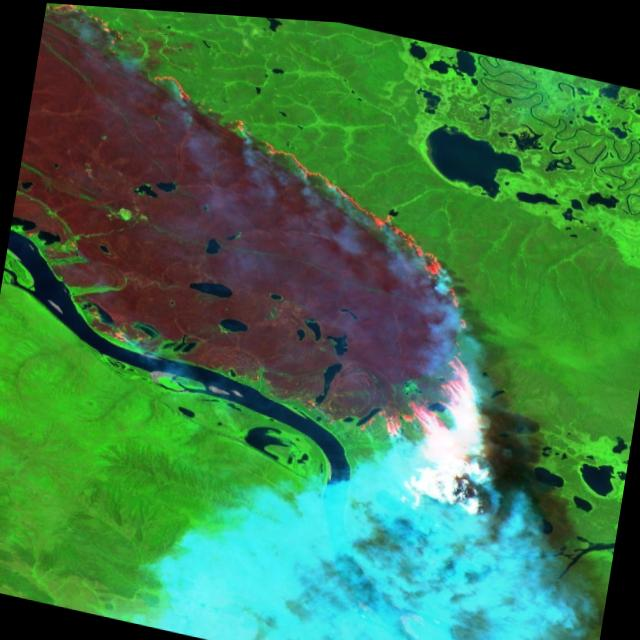fire: (0, 0, 558, 513)
